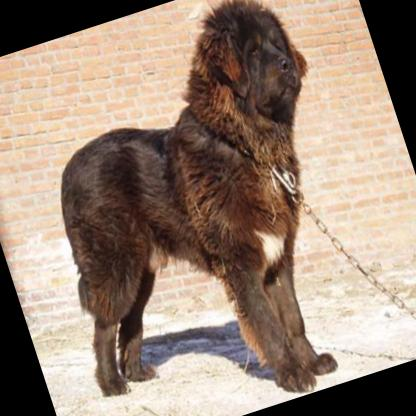Tibetan_mastiff: (0, 0, 405, 416)
